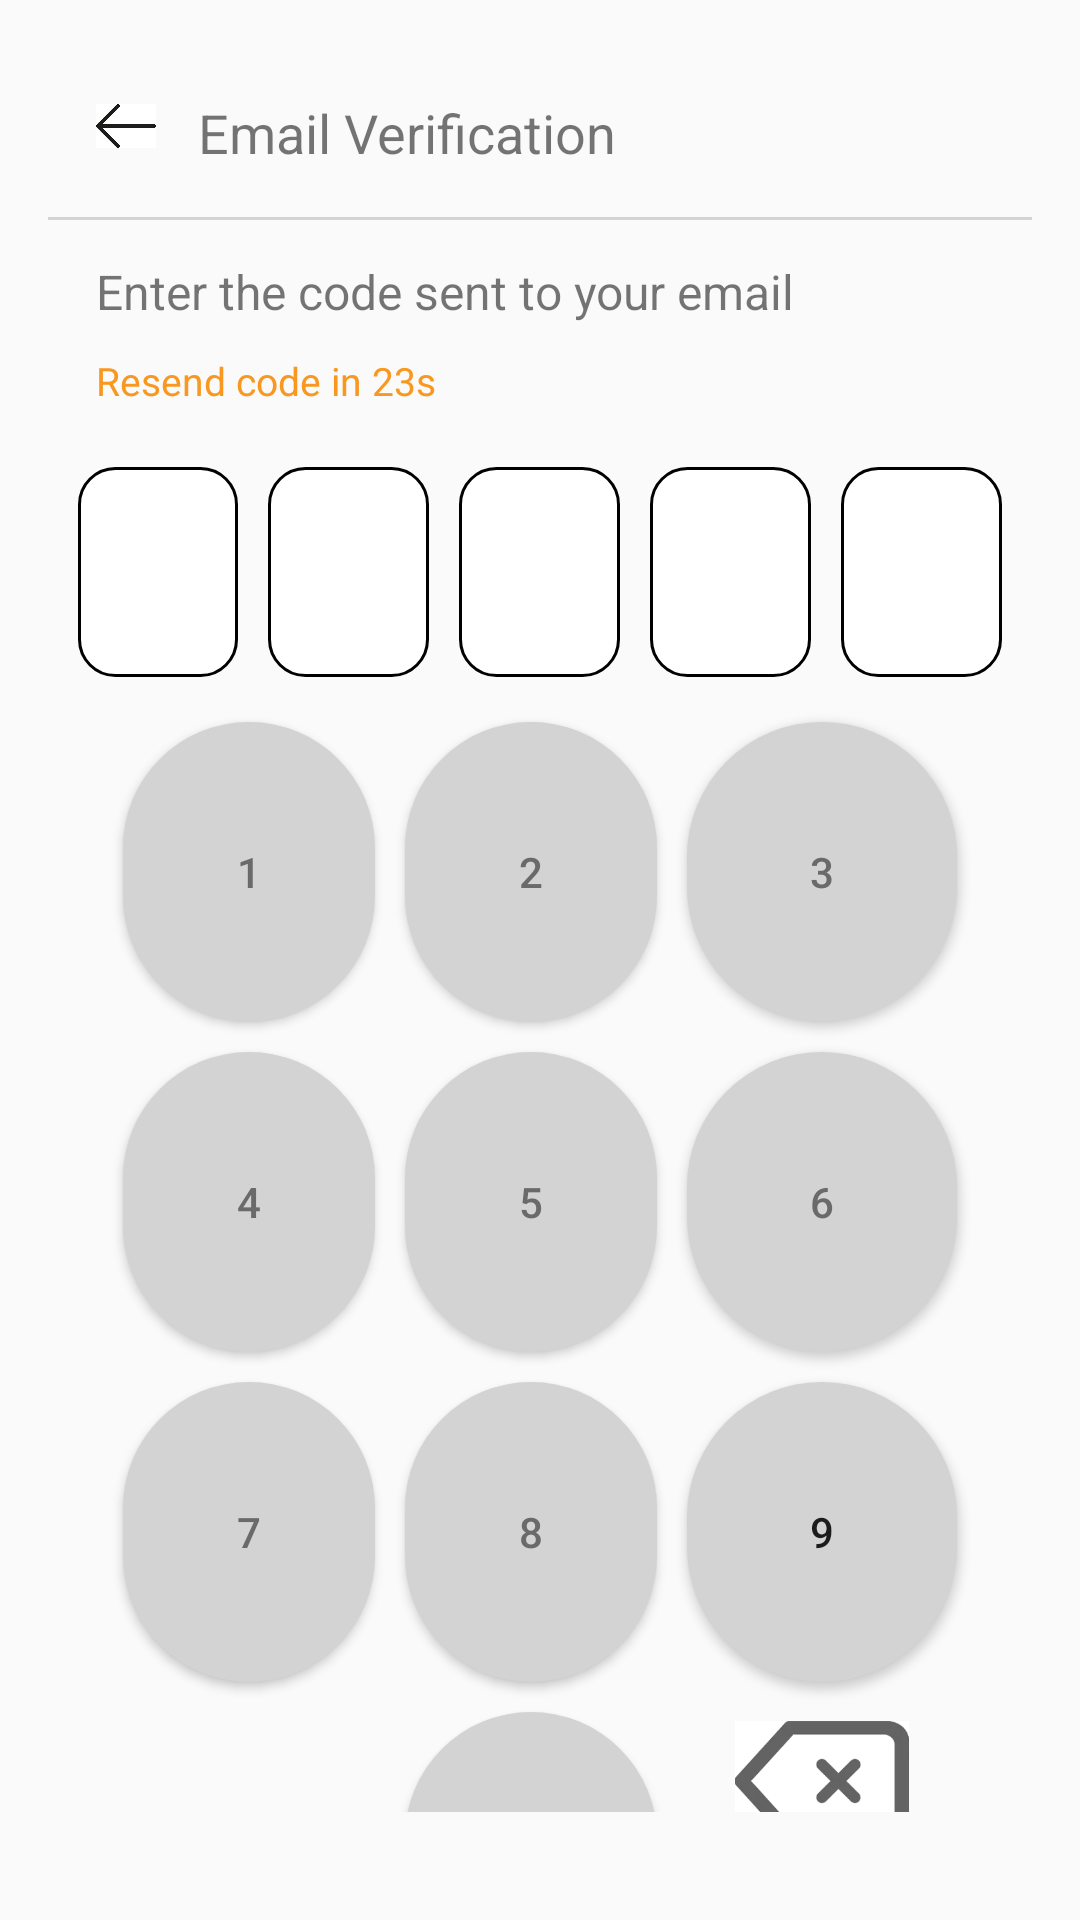

Named icons in this screenshot (1080×1920) and their bounding boxes, bbox=(x1, y1, x2, y2):
backarrow: bbox=(96, 104, 156, 148)
